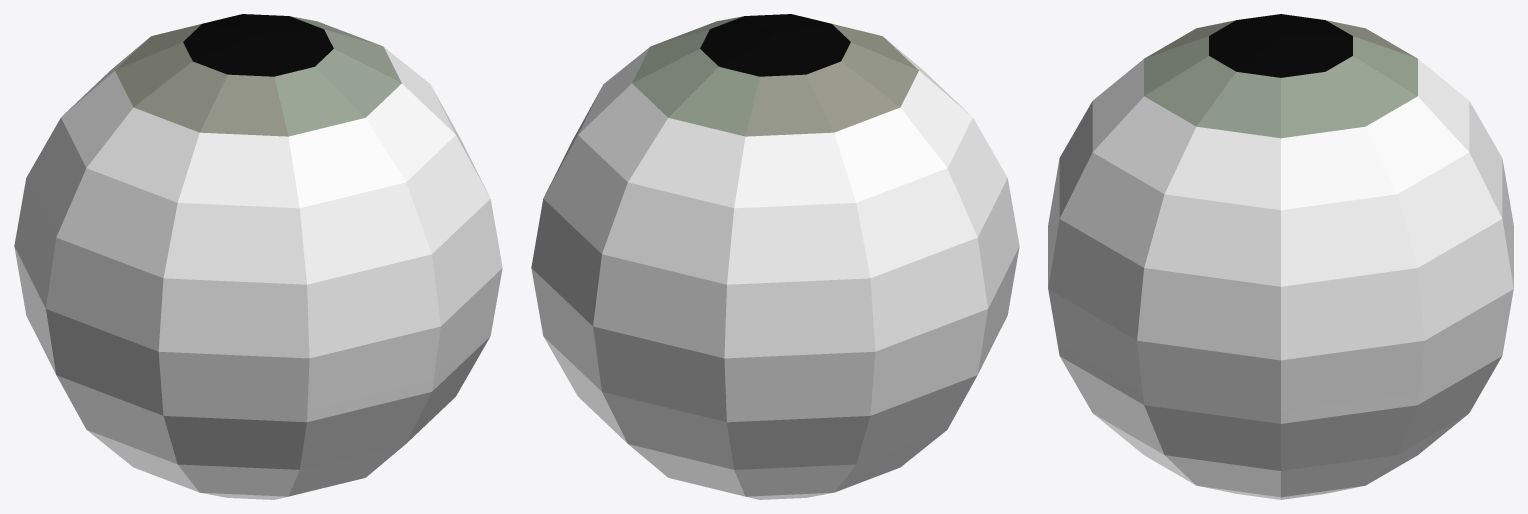
Rendered from Eye.obj.
3 views of the same model, side by side, from view 1: azimuth 30°, elevation 25°; view 2: azimuth 150°, elevation 25°; view 3: azimuth 270°, elevation 25° (orthographic).
Parts seen in each view (by area): view 1: pSphere3; view 2: pSphere3; view 3: pSphere3.
Part boxes in pixels (<box>): pSphere3: <box>14,14,502,499</box>; pSphere3: <box>531,14,1019,499</box>; pSphere3: <box>1048,14,1513,499</box>.
Bounding box in the file's own units: 4 × 4 × 3.8.
1 material, 1 textured.
